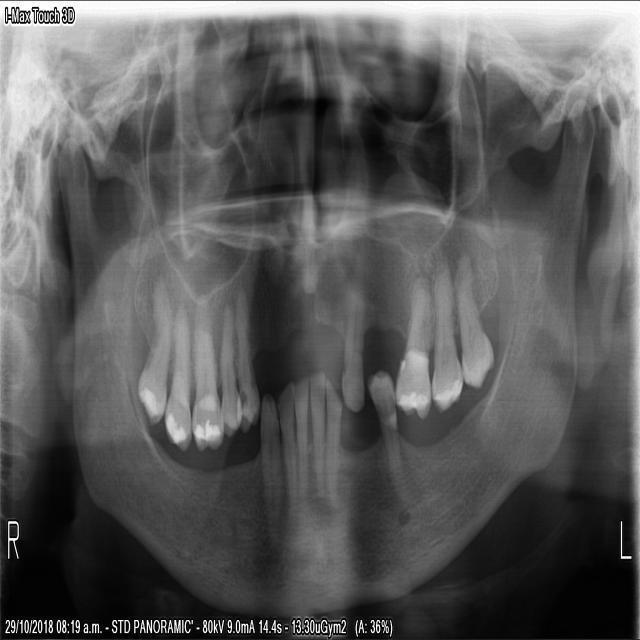LID: (306, 365, 324, 507), (323, 370, 341, 512)
LMU: (451, 248, 494, 391), (391, 268, 429, 422), (428, 256, 461, 417)
LPMD: (364, 363, 407, 503)
LPMU: (337, 246, 365, 416)
RCD: (256, 389, 282, 555)
RID: (273, 375, 295, 526), (287, 370, 307, 500)
RMU: (134, 273, 171, 429), (188, 283, 222, 452), (159, 290, 190, 453)
RPMU: (232, 277, 260, 434), (215, 297, 242, 439)
